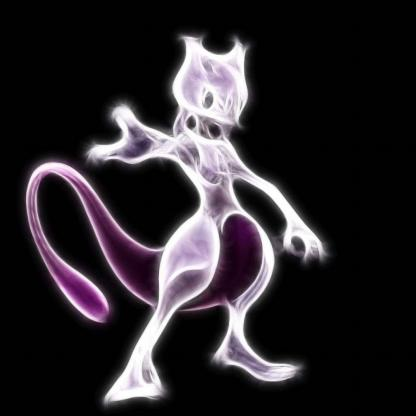Mewtwo: (11, 36, 323, 416)
